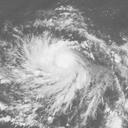cyclone: (23, 37, 91, 102)
